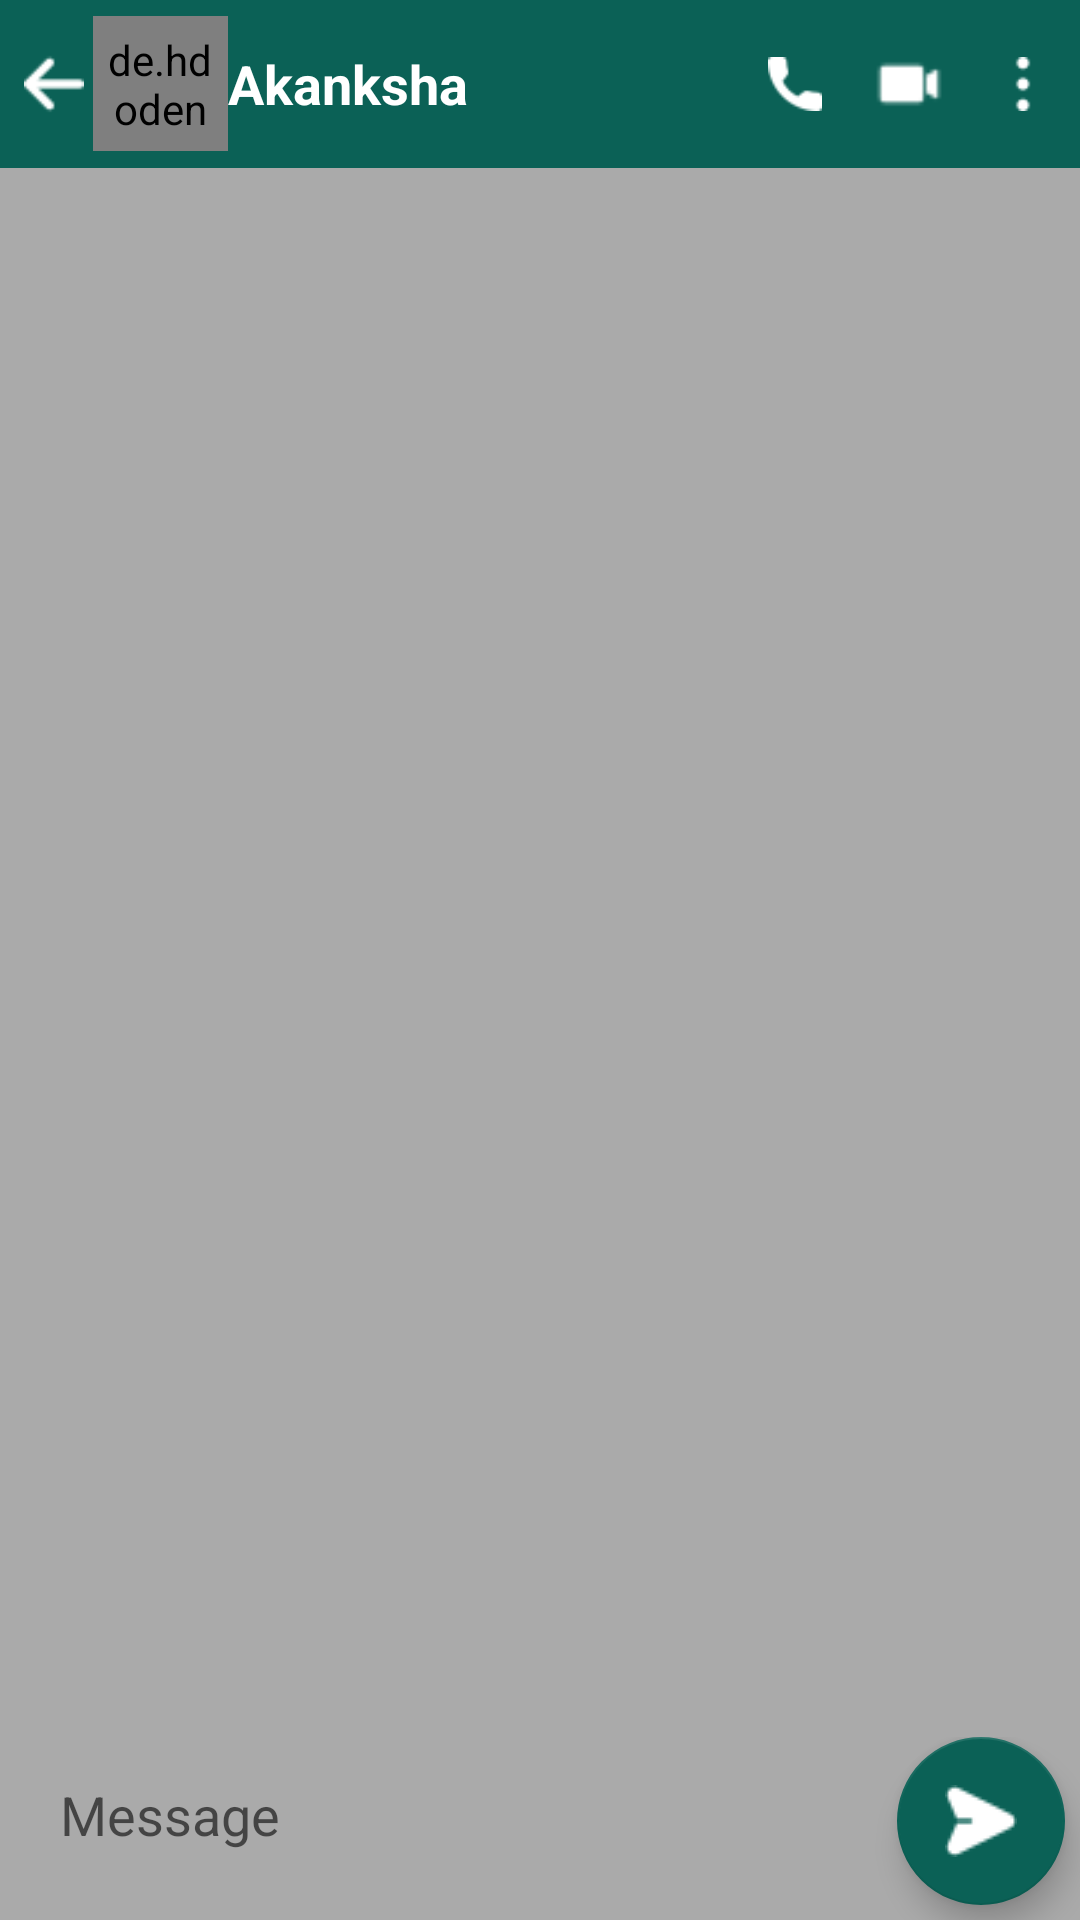

Named icons in this screenshot (1080px×1920px) and their bounding boxes, (x1,y1,x2,y2):
arrow: (24,56,84,112)
call: (768,57,822,111)
more: (1016,57,1030,111)
send: (897,1737,1065,1905)
videocall: (877,63,941,105)
